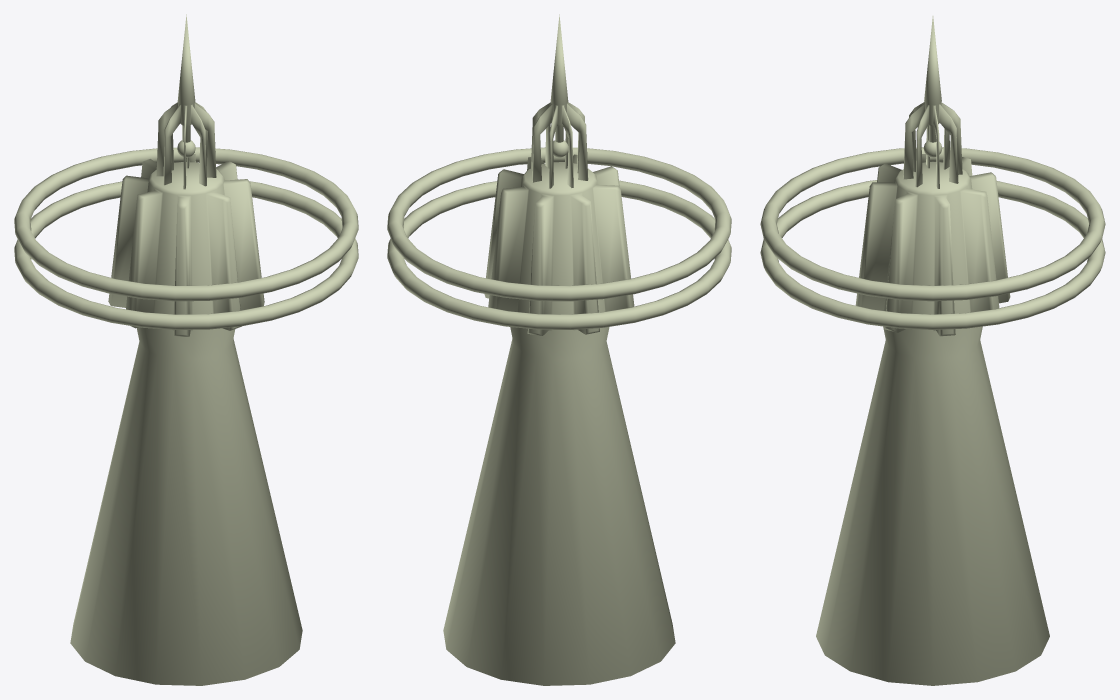
File: Fuel-Tower_001.obj
3 renders of one model, left to right at view 1: azimuth 30°, elevation 25°; view 2: azimuth 150°, elevation 25°; view 3: azimuth 270°, elevation 25°, orthographic.
Parts seen in each view (by area): view 1: Cylinder2, Torus4_copy5, Torus4, cone1; view 2: Cylinder2, Torus4_copy5, Torus4, cone1; view 3: Cylinder2, Torus4_copy5, Torus4, cone1.
Part boxes in pixels (<box>): Cylinder2: <box>70,154,302,685</box>; Torus4_copy5: <box>14,147,358,301</box>; Torus4: <box>14,179,358,329</box>; cone1: <box>156,14,216,189</box>; Cylinder2: <box>443,154,675,685</box>; Torus4_copy5: <box>387,147,731,301</box>; Torus4: <box>387,180,731,329</box>; cone1: <box>530,14,588,188</box>; Cylinder2: <box>816,154,1049,685</box>; Torus4_copy5: <box>760,147,1105,301</box>; Torus4: <box>760,180,1105,329</box>; cone1: <box>903,16,962,188</box>.
Size of the model in its own units: 36.95 by 73.52 by 36.95.
